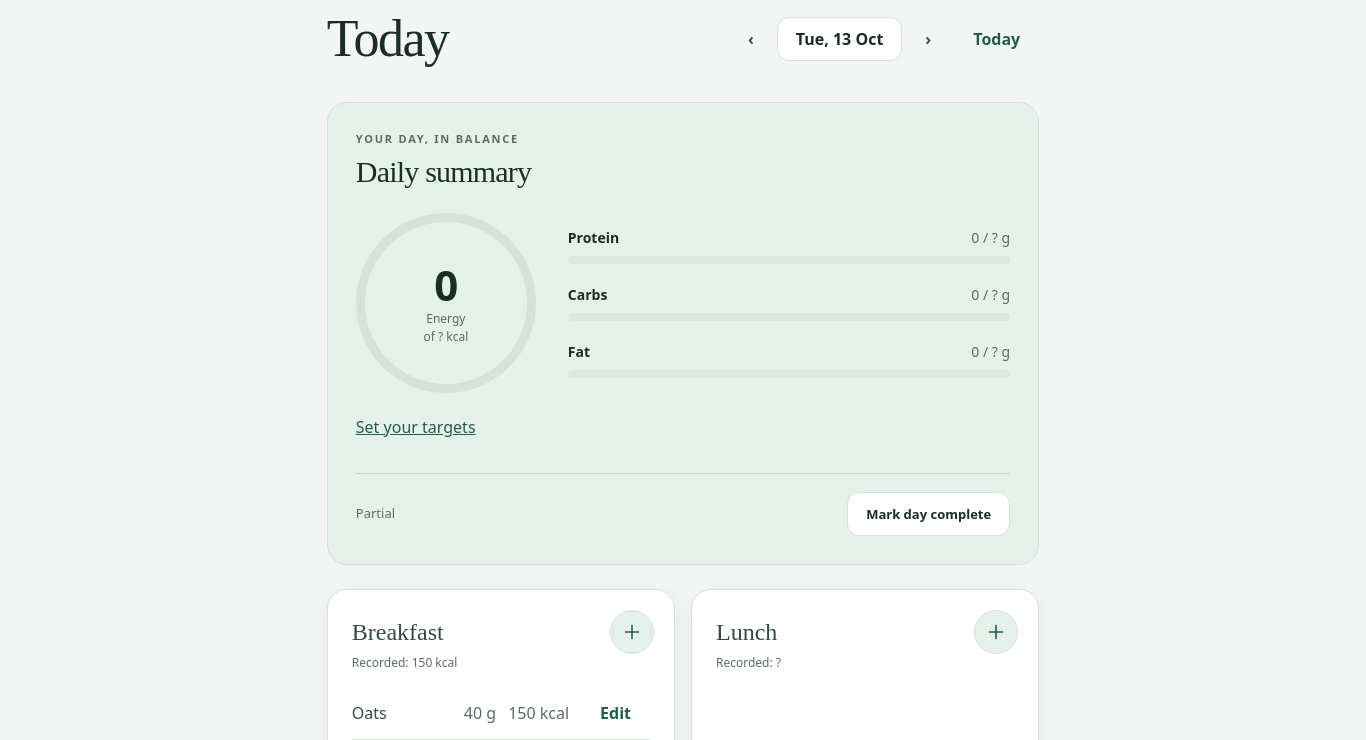
it: DayPage › tapping an item opens the edit dialog
Expected: the text "Oats" is shown, [352,702,387,724]
Click the button "Edit" at (616, 713), box [581,691,650,735]
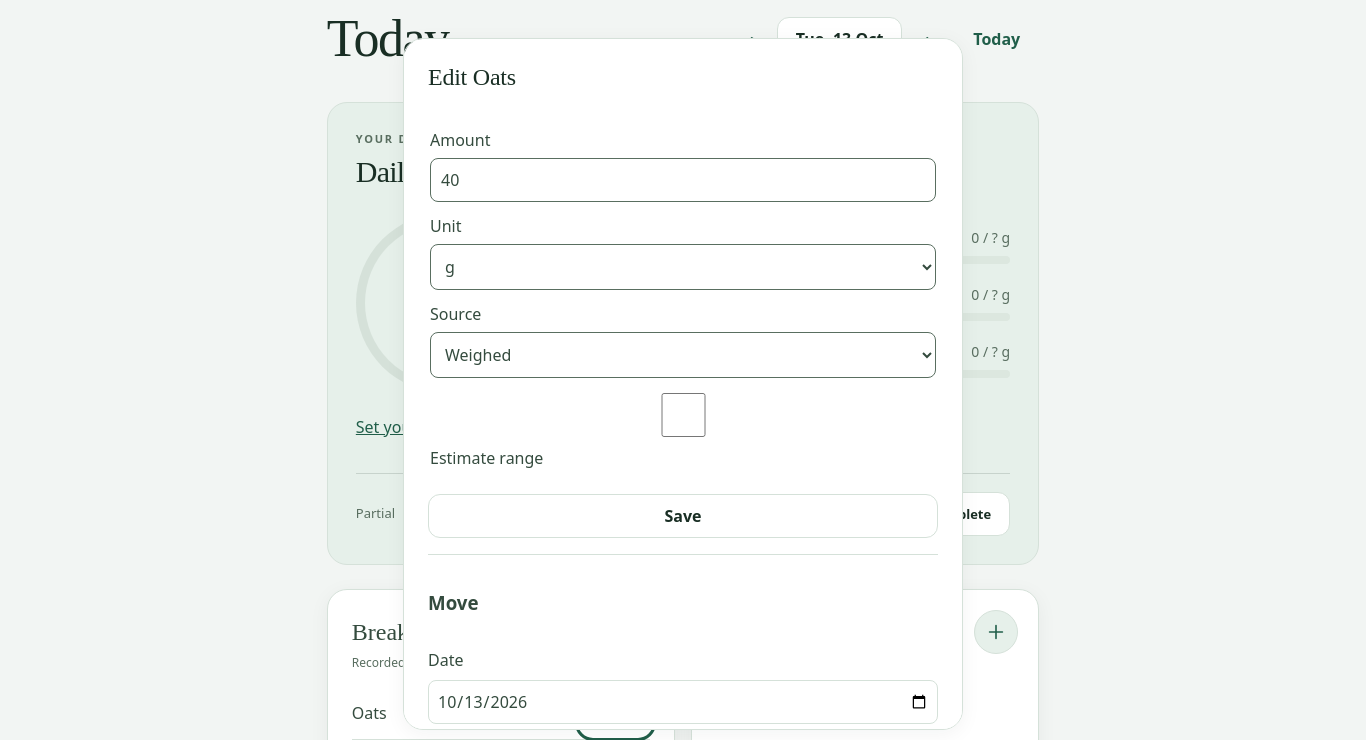
Result: the dialog named "Edit item" is shown at [403,38,963,730]
